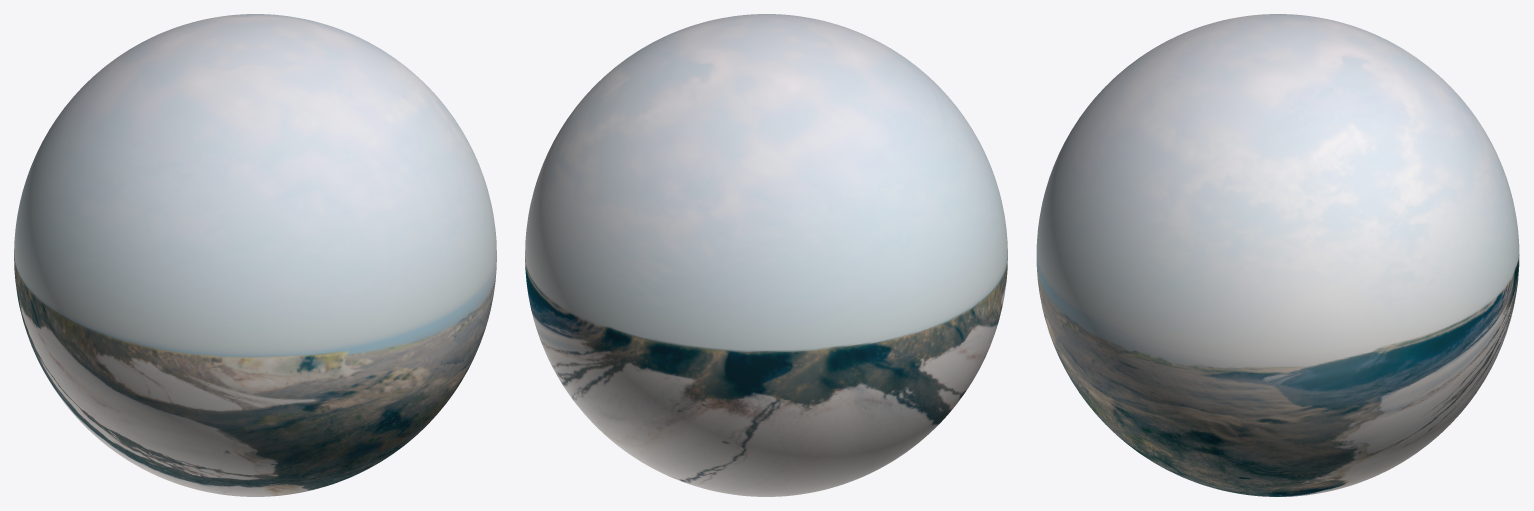
File: Scene2_Skybox_PolarRegion.glb
3 renders of one model, left to right at view 1: azimuth 30°, elevation 25°; view 2: azimuth 150°, elevation 25°; view 3: azimuth 270°, elevation 25°, orthographic.
Parts seen in each view (by area): view 1: PolarRegionStatistics_Skybox_Scene_2; view 2: PolarRegionStatistics_Skybox_Scene_2; view 3: PolarRegionStatistics_Skybox_Scene_2.
Part boxes in pixels (bbox=[...]): PolarRegionStatistics_Skybox_Scene_2: bbox=[14, 14, 496, 496]; PolarRegionStatistics_Skybox_Scene_2: bbox=[525, 14, 1007, 496]; PolarRegionStatistics_Skybox_Scene_2: bbox=[1036, 14, 1519, 496].
Bounding box in the file's own units: 160 × 160 × 160.
Materials: 1 (1 with a texture image).
